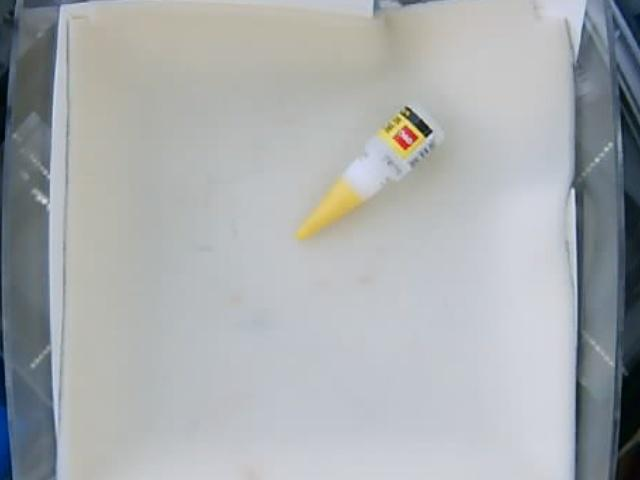Bottle: (298, 104, 443, 244)
